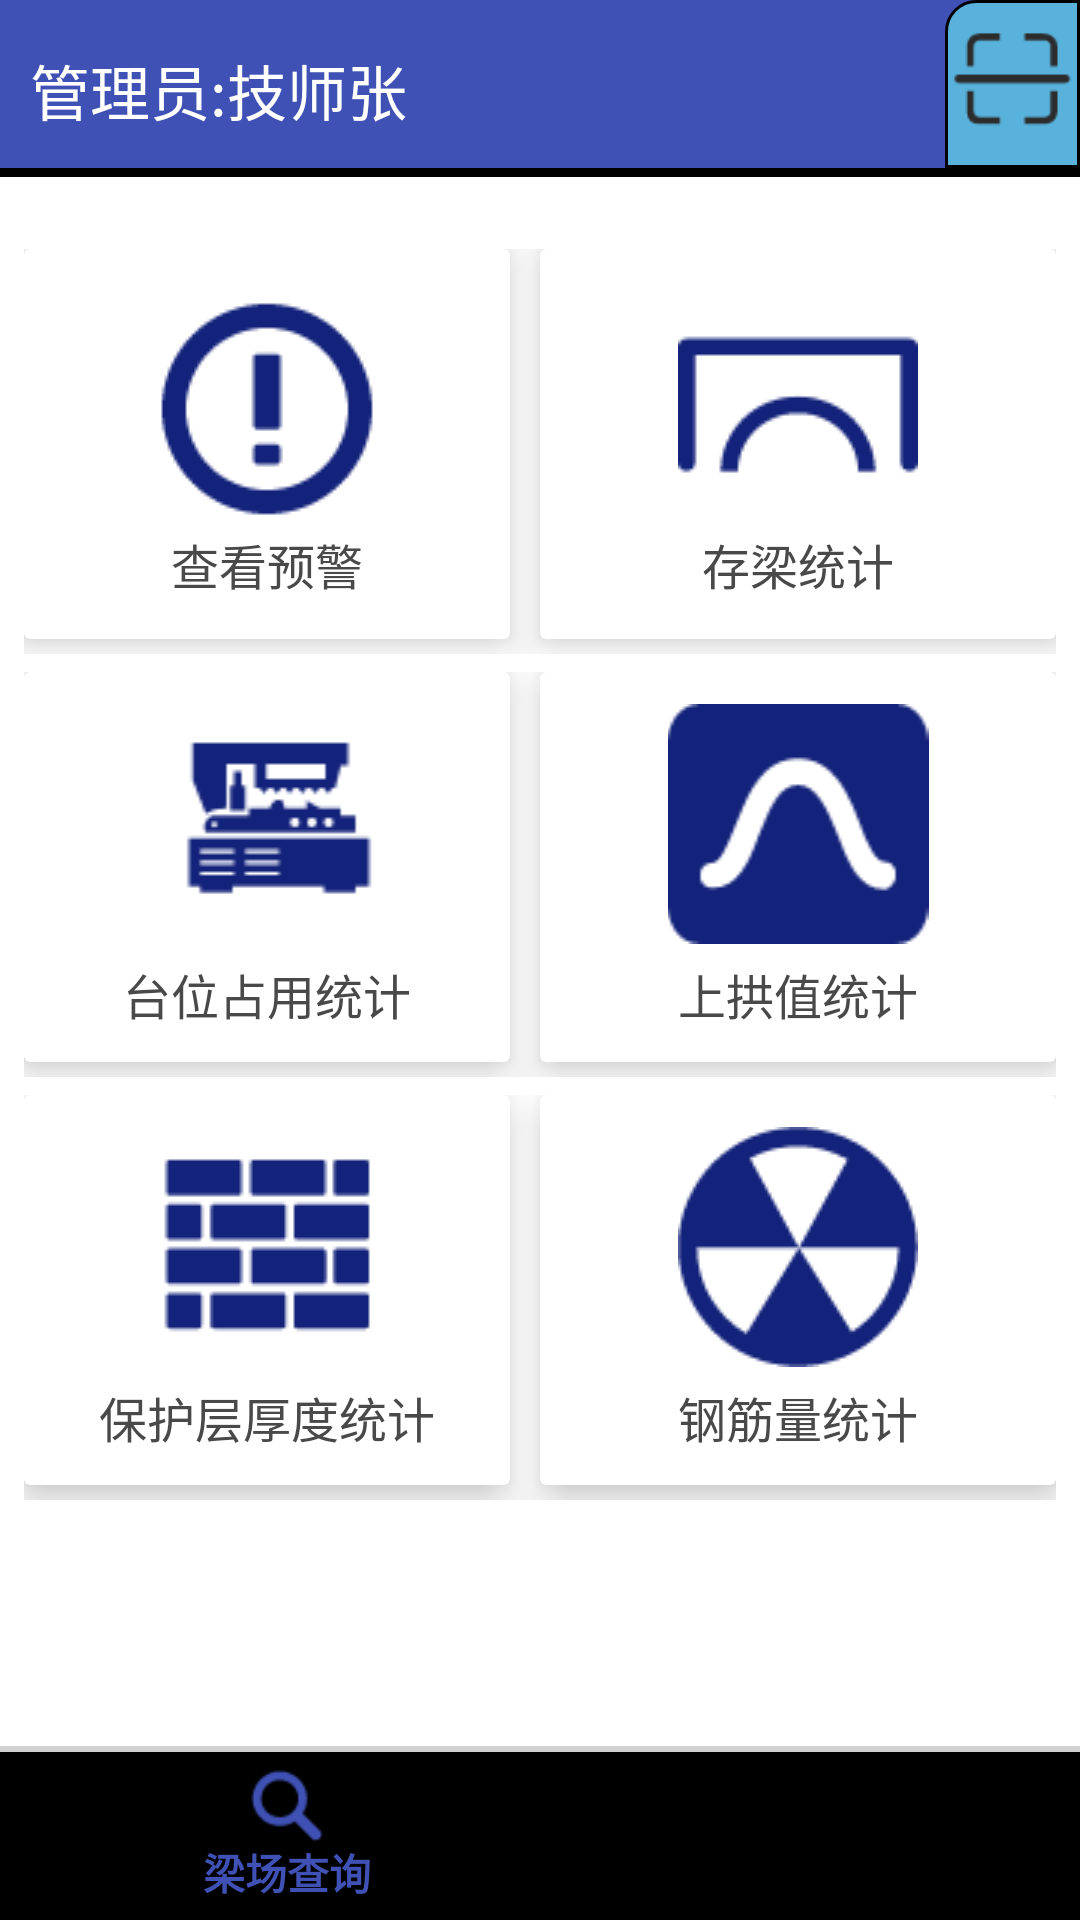

Point at icon controls on the screen. Image size 1080 x 1920, points as (x,y).
max: (798,824)
scan: (1012,79)
